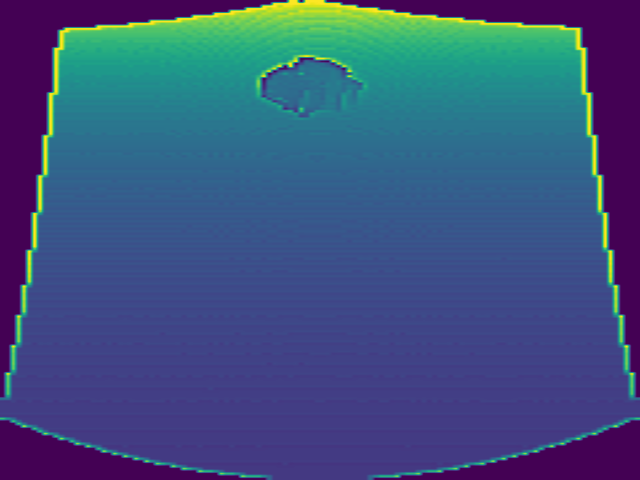car_0027: (252, 54, 367, 118)
